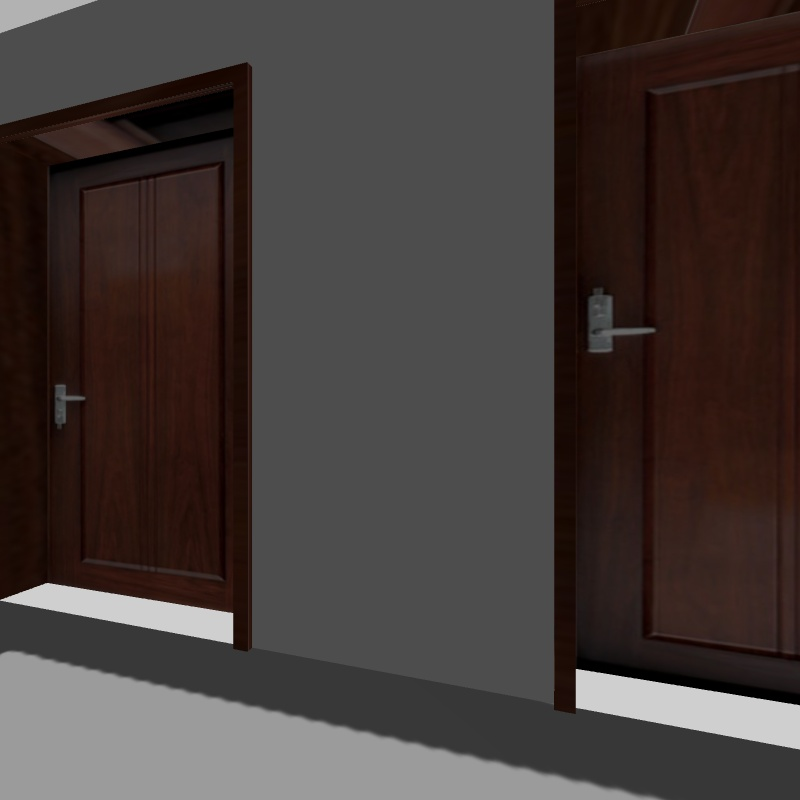handle: (572, 281, 658, 354), (37, 381, 89, 430)
